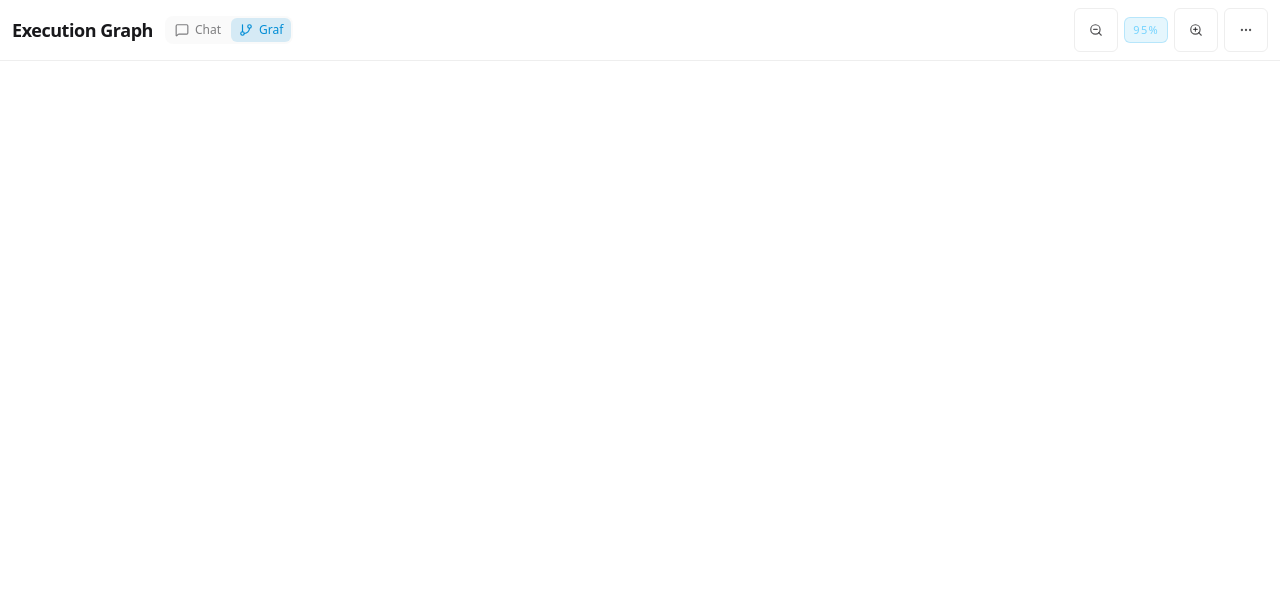
Scenario: ExecutionGraphHeader › hides the focus toggle when disabled and applies success hydration styling
Click the button named "More graph controls". click: (1246, 30)
box: [1224,8,1268,52]
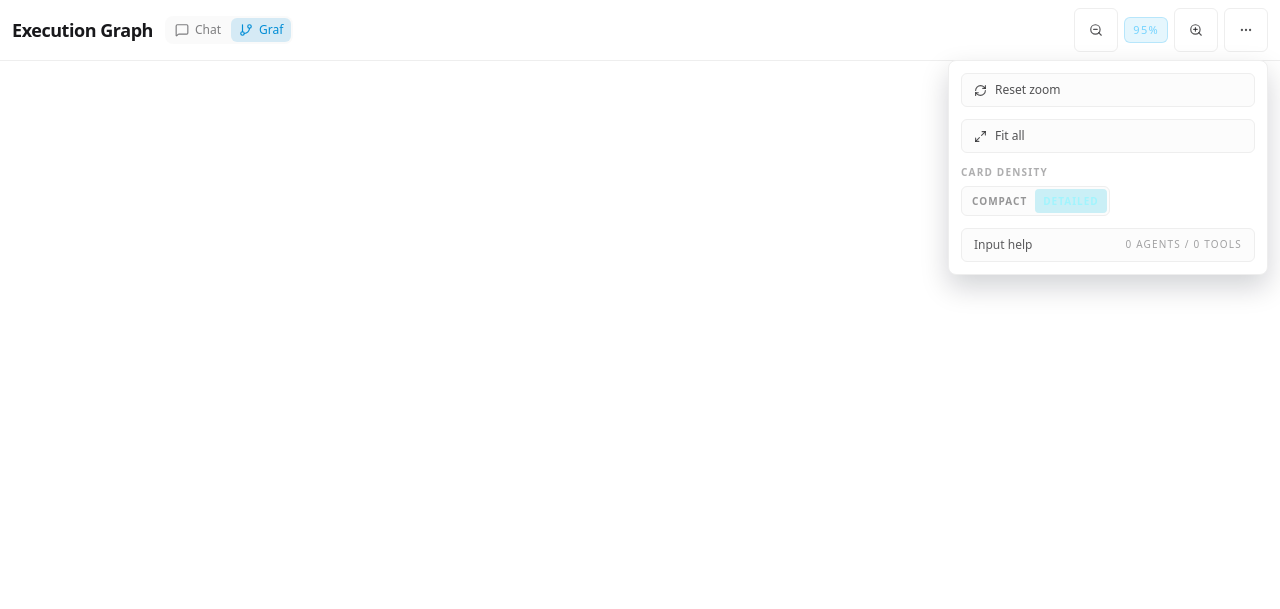
Expected: the text "0 agents / 0 tools" is shown, [1125,238,1242,252]
Click the button "Input help 0 agents / 0 tools". click: (1003, 244)
box: [961,228,1255,262]
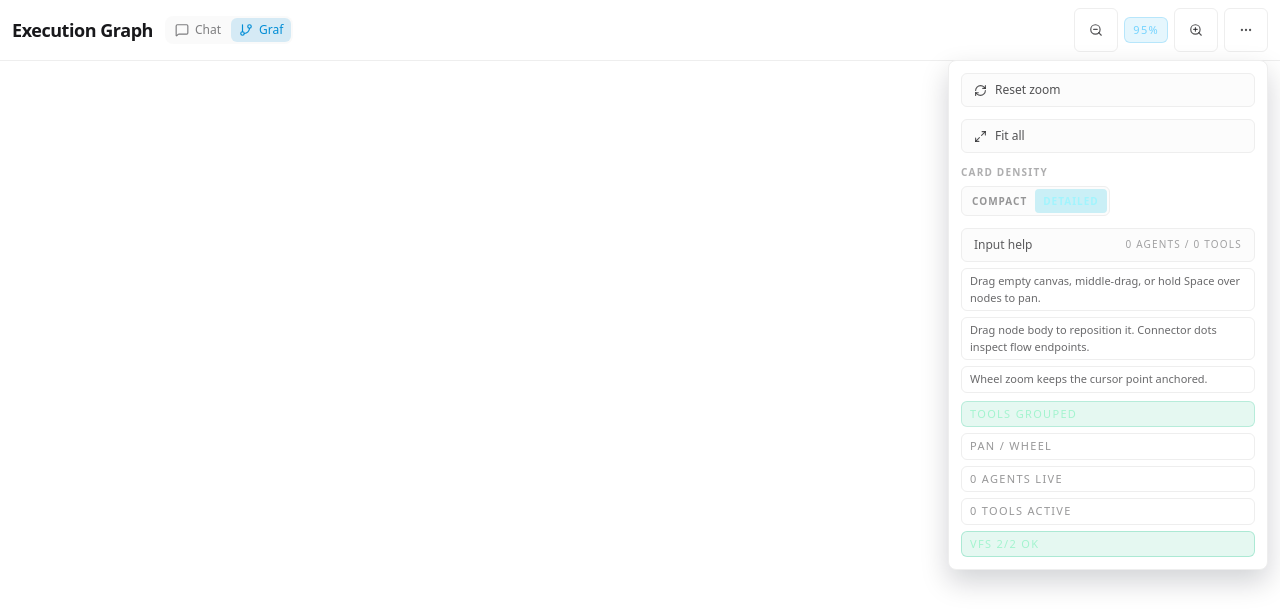
Expected: the text "tools grouped" is shown, [961,400,1255,427]
